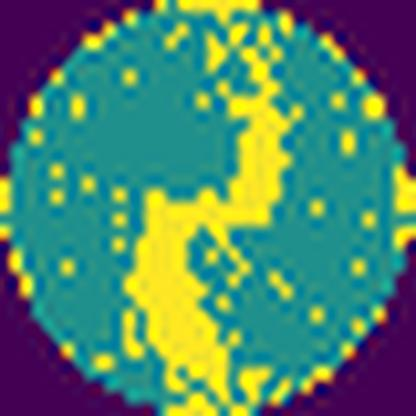Loc: (120, 45, 306, 416)
